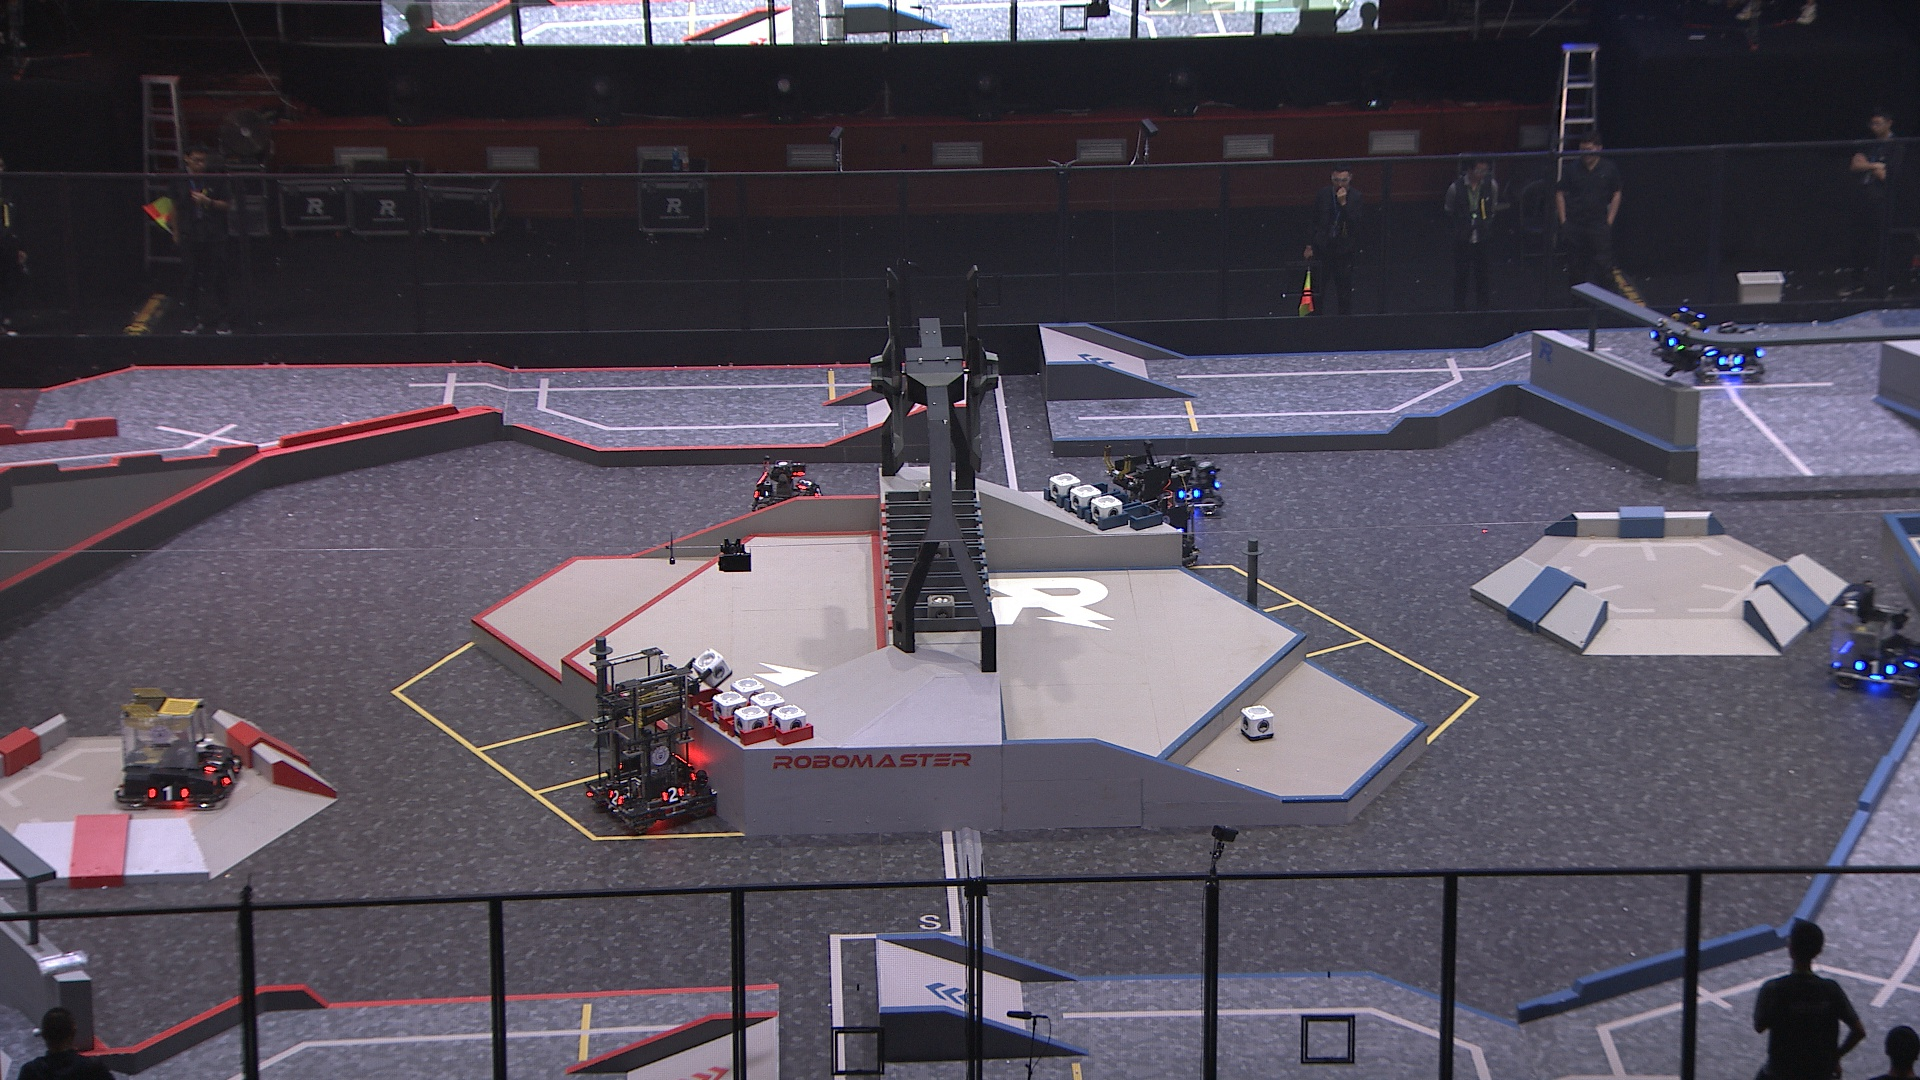armor: (1851, 655, 1898, 678), (142, 785, 191, 802), (215, 761, 240, 789), (1648, 324, 1676, 349), (1716, 352, 1743, 371), (659, 785, 684, 803), (1902, 647, 1920, 671), (1176, 485, 1201, 502), (206, 752, 225, 773), (793, 473, 814, 493), (1700, 342, 1722, 360), (605, 789, 624, 808)
car: (580, 642, 721, 832), (105, 680, 243, 815), (1097, 448, 1201, 575), (1825, 579, 1920, 704), (1141, 451, 1225, 524), (746, 458, 825, 529), (1695, 319, 1768, 385)
watcher: (1644, 297, 1712, 375)
